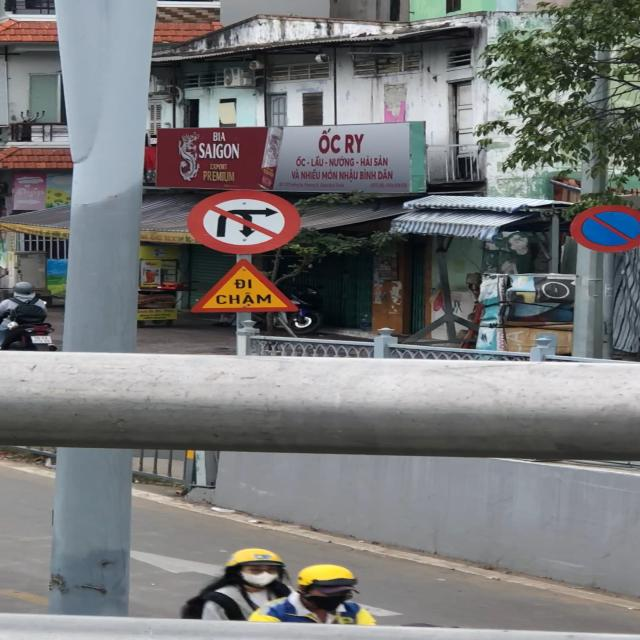Bien bao cam re phai va quay dau: (184, 188, 304, 258)
Bien bao di cham: (189, 257, 300, 316)
